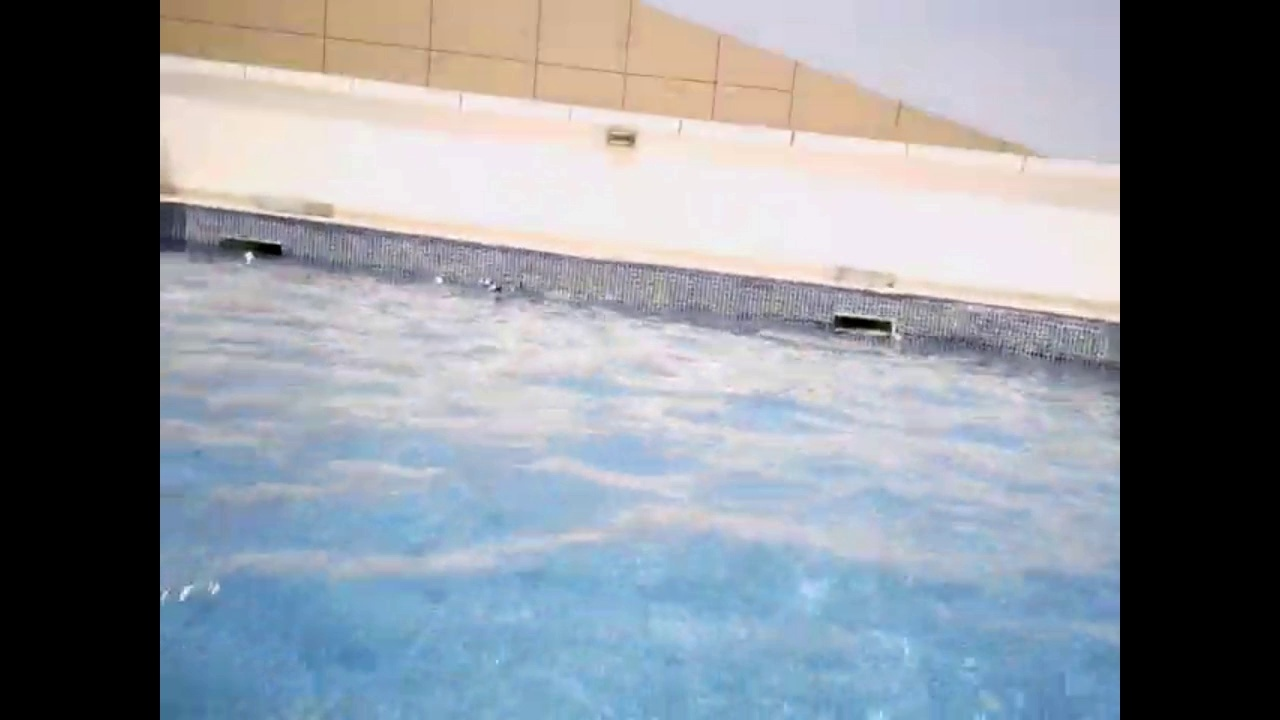debris: (242, 247, 260, 268), (482, 281, 504, 297), (433, 275, 446, 286)
